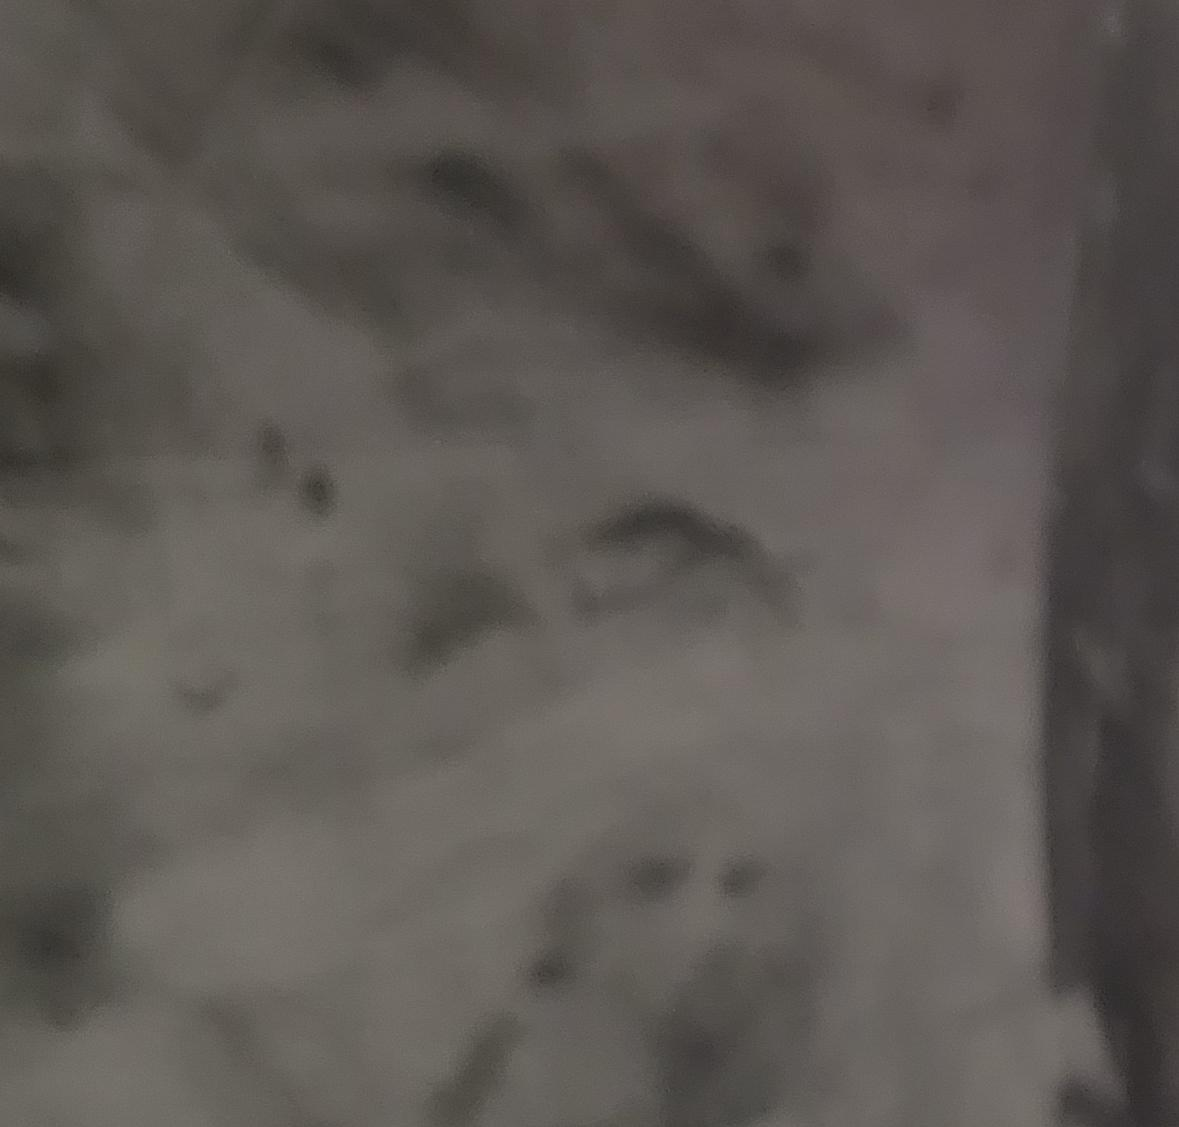Chip: (1, 335, 810, 1127)
